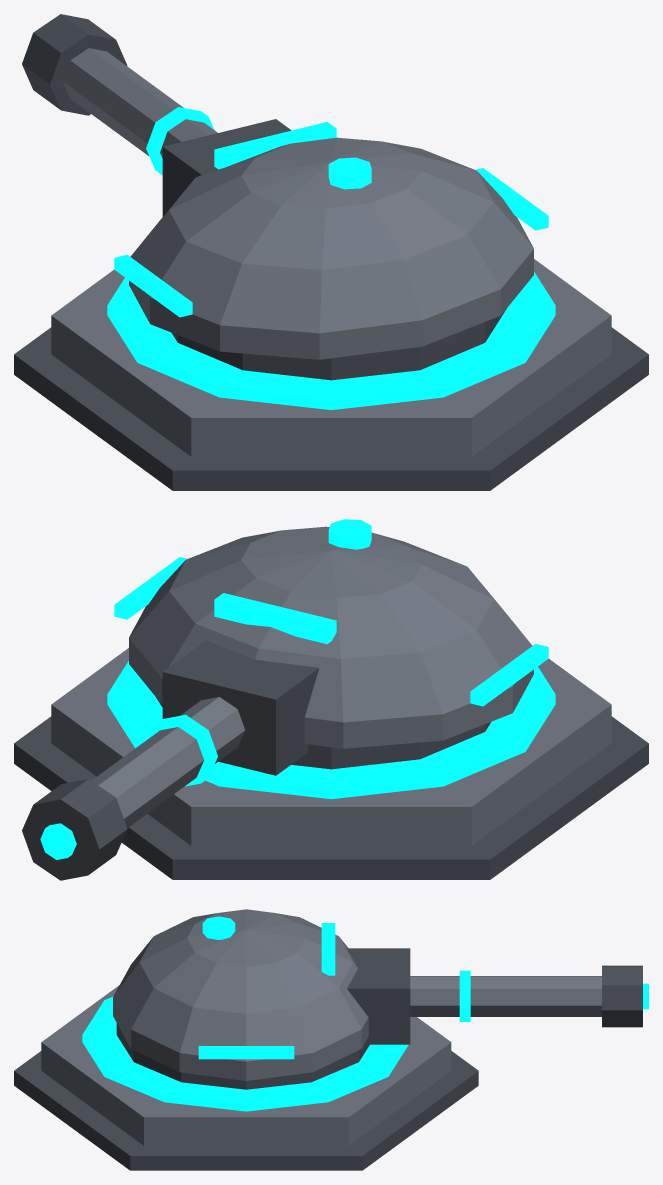
Rendered from turret_lvl1.glb.
3 views of the same model, one above another, from view 1: azimuth 30°, elevation 25°; view 2: azimuth 150°, elevation 25°; view 3: azimuth 270°, elevation 25° (orthographic). The views are drawn at different scales.
Parts seen in each view (by area): view 1: Dome, Base, BaseSkirt, Neon_BaseRing, Barrel, Pivot, Muzzle, BarrelMount, Neon_Visor, Neon_StripL, Neon_StripR, Neon_BarrelRing (+1 smaller); view 2: Dome, Base, BaseSkirt, Neon_BaseRing, BarrelMount, Barrel, Muzzle, Pivot, Neon_Visor, Neon_StripL, Neon_BarrelRing, Neon_StripR (+2 smaller); view 3: Dome, Base, BaseSkirt, Neon_BaseRing, Barrel, BarrelMount, Pivot, Muzzle, Neon_StripR, Neon_Visor, Neon_TopLight, Neon_BarrelRing.
Part boxes in pixels (bbox=[...]): Dome: bbox=[129, 137, 533, 359]; Base: bbox=[51, 259, 611, 456]; BaseSkirt: bbox=[14, 327, 648, 490]; Neon_BaseRing: bbox=[107, 272, 555, 410]; Barrel: bbox=[63, 48, 217, 157]; Pivot: bbox=[171, 308, 506, 380]; Muzzle: bbox=[22, 14, 127, 115]; BarrelMount: bbox=[162, 119, 291, 216]; Neon_Visor: bbox=[214, 122, 336, 169]; Neon_StripL: bbox=[114, 254, 192, 317]; Neon_StripR: bbox=[475, 168, 548, 230]; Neon_BarrelRing: bbox=[146, 107, 214, 175]; Dome: bbox=[129, 526, 533, 748]; Base: bbox=[51, 648, 611, 845]; BaseSkirt: bbox=[14, 716, 648, 879]; Neon_BaseRing: bbox=[107, 661, 555, 799]; BarrelMount: bbox=[162, 640, 319, 775]; Barrel: bbox=[91, 697, 245, 827]; Muzzle: bbox=[22, 779, 127, 880]; Pivot: bbox=[156, 698, 491, 769]; Neon_Visor: bbox=[214, 593, 336, 644]; Neon_StripL: bbox=[470, 644, 548, 706]; Neon_BarrelRing: bbox=[149, 714, 217, 786]; Neon_StripR: bbox=[114, 557, 187, 619]; Dome: bbox=[113, 909, 368, 1080]; Base: bbox=[41, 985, 451, 1145]; BaseSkirt: bbox=[14, 1051, 478, 1170]; Neon_BaseRing: bbox=[82, 996, 408, 1111]; Barrel: bbox=[410, 976, 601, 1016]; BarrelMount: bbox=[347, 948, 410, 1044]; Pivot: bbox=[116, 1023, 369, 1089]; Muzzle: bbox=[602, 965, 642, 1027]; Neon_StripR: bbox=[198, 1046, 294, 1059]; Neon_Visor: bbox=[321, 923, 335, 975]; Neon_TopLight: bbox=[202, 916, 235, 939]; Neon_BarrelRing: bbox=[459, 970, 470, 1021].
Bounding box in the file's own units: 2.94 × 1.31 × 4.65.
